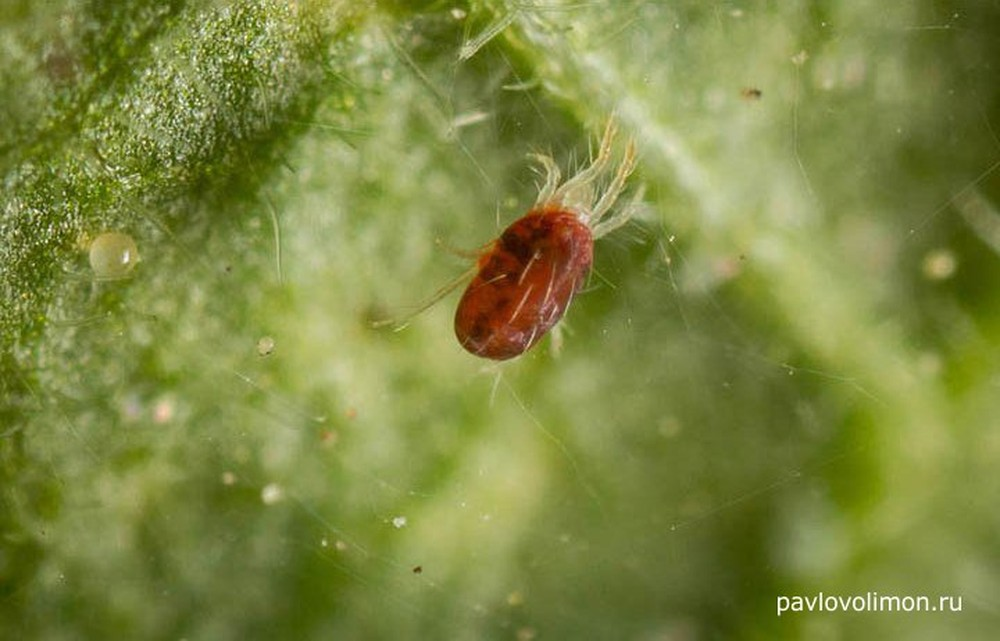Aracnido Rojo: (408, 118, 687, 395)
